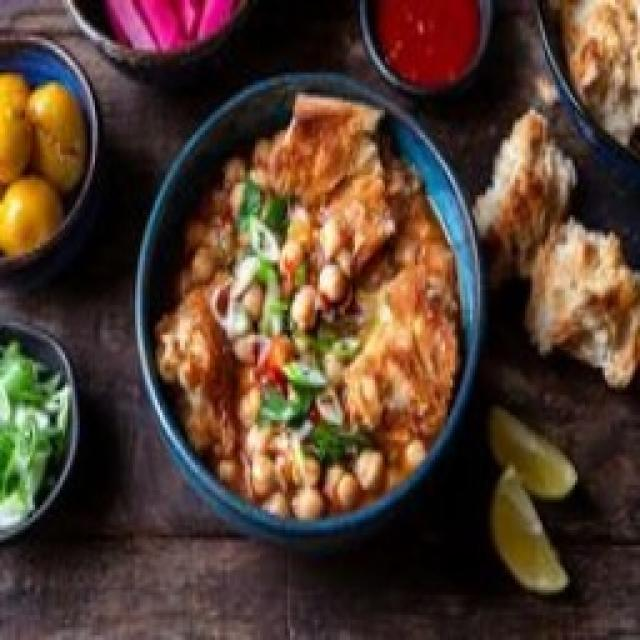Lablabi: (156, 94, 459, 518)
